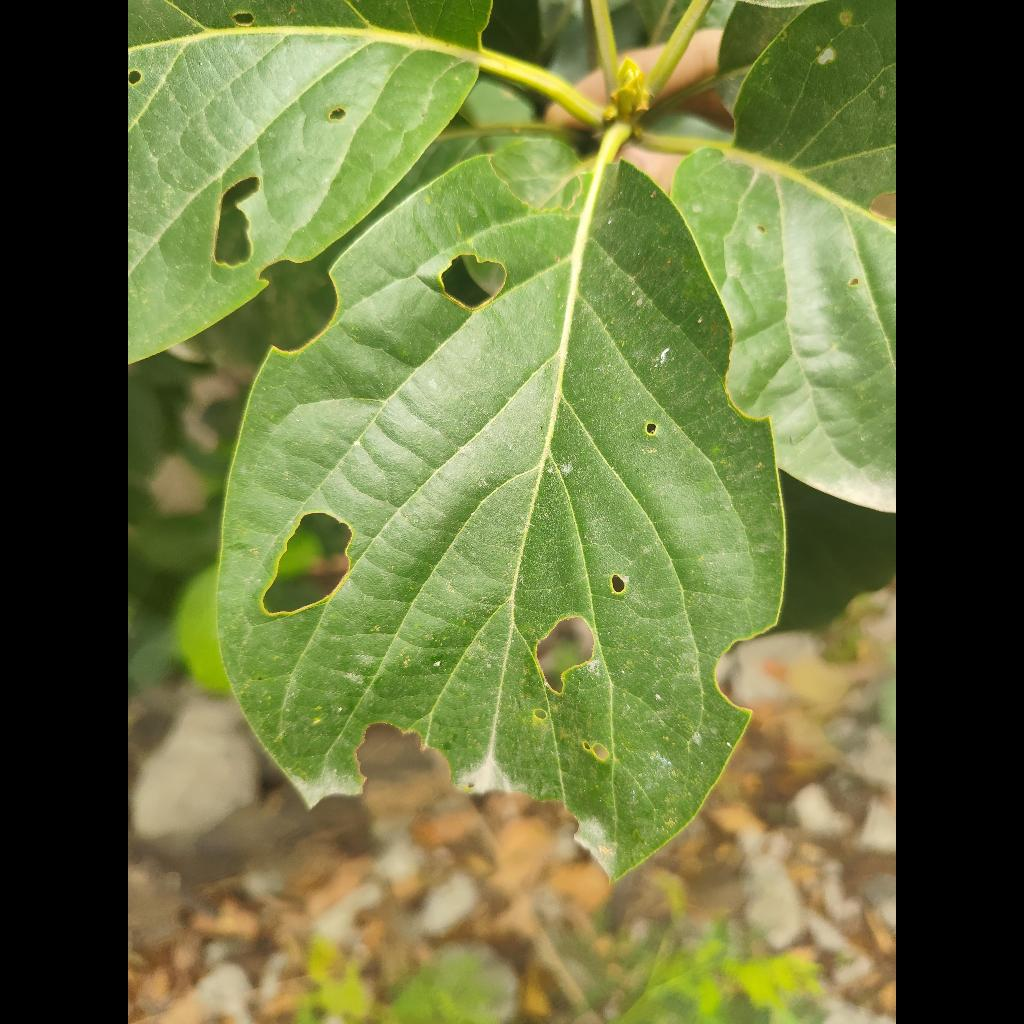Pest Infested: (221, 158, 783, 877)
